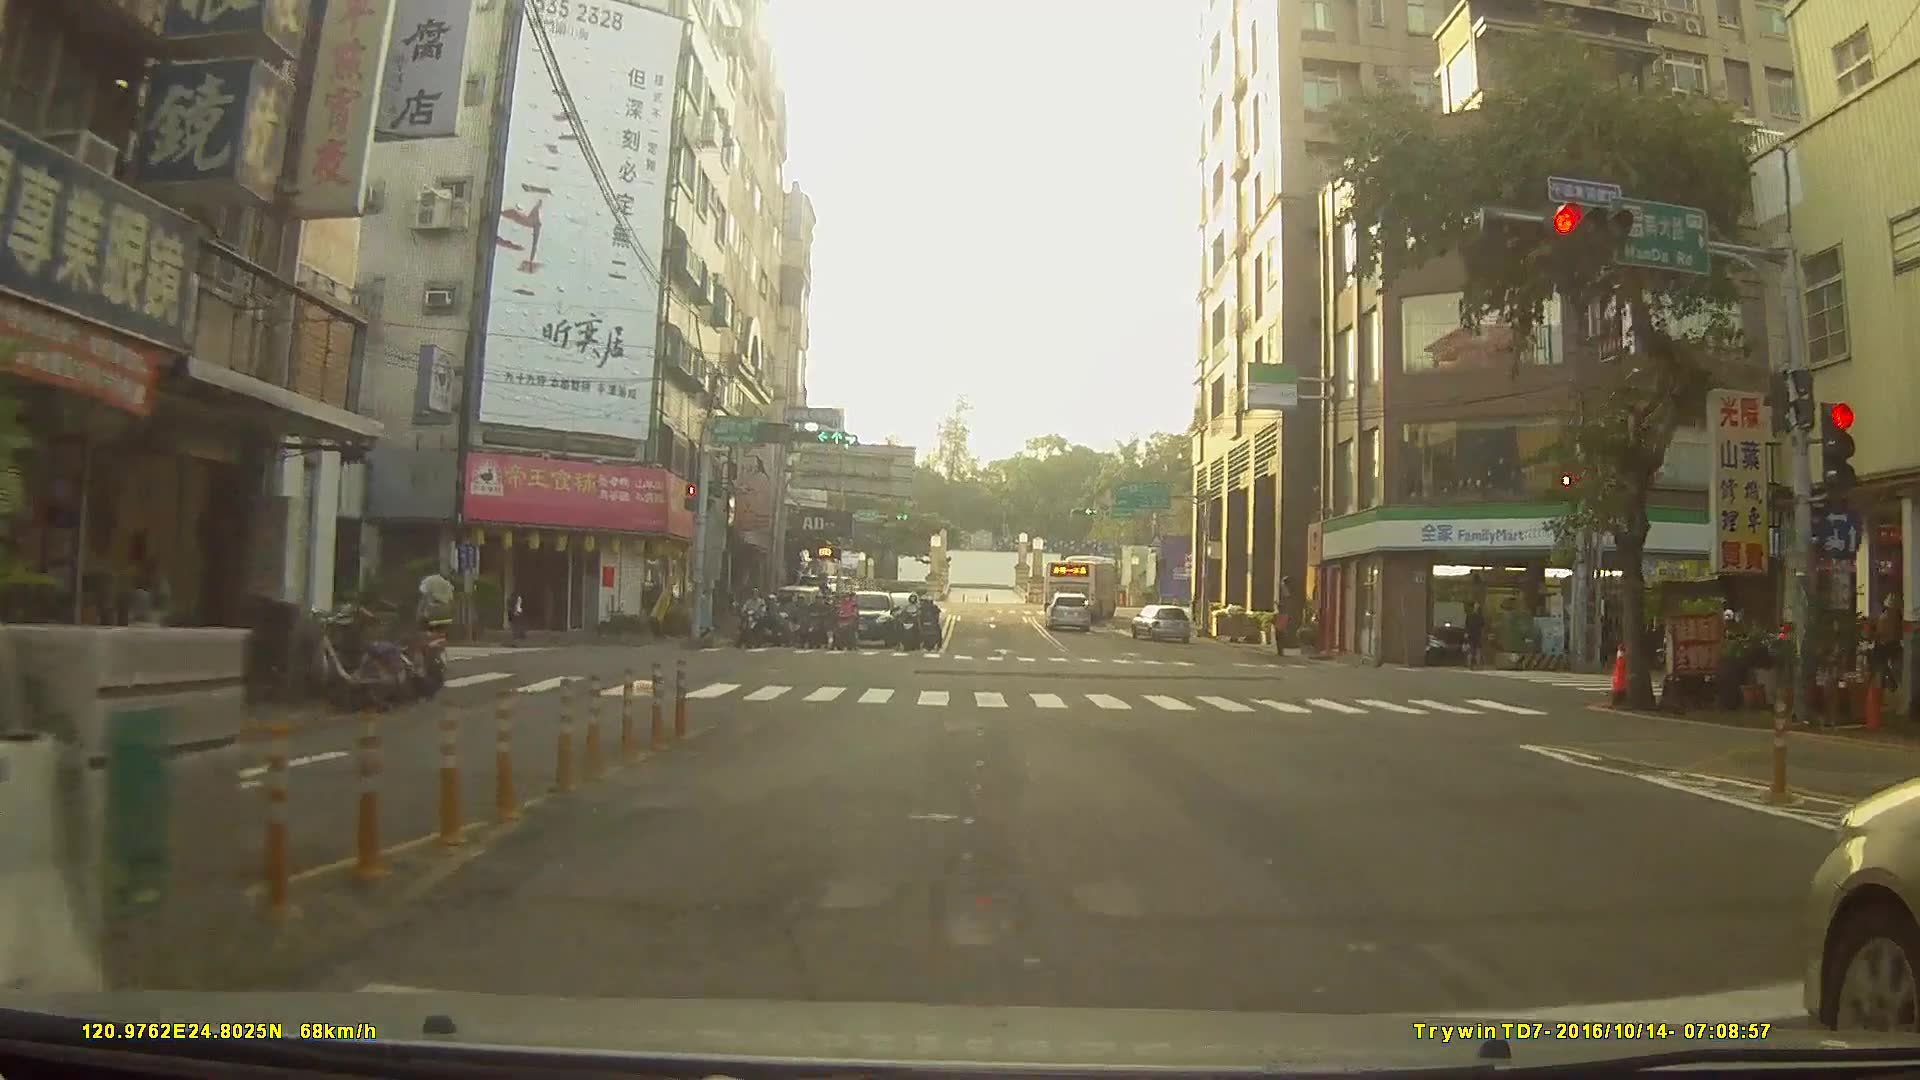pedestrian: (413, 561, 460, 671), (1465, 601, 1488, 673), (507, 589, 529, 648), (1273, 605, 1293, 660)
rider: (736, 591, 768, 656), (829, 595, 860, 659), (806, 594, 832, 653), (898, 592, 922, 654), (771, 592, 798, 648), (919, 603, 942, 660)
vehicle: (1042, 553, 1120, 617), (834, 588, 899, 652), (1128, 603, 1190, 644), (1042, 591, 1093, 631)
